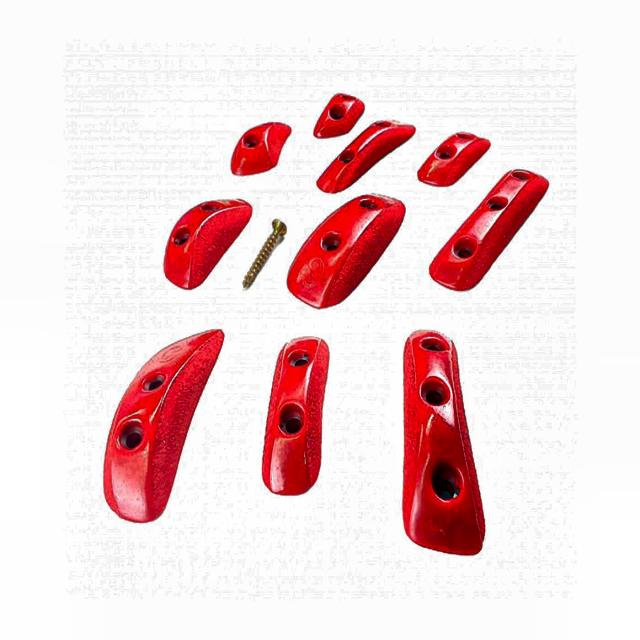Hold: (100, 320, 224, 528), (404, 323, 485, 557), (426, 167, 556, 297), (283, 196, 411, 313), (257, 334, 324, 500), (161, 188, 254, 293), (310, 120, 415, 196), (222, 110, 297, 186), (420, 119, 493, 188), (318, 84, 362, 138)
